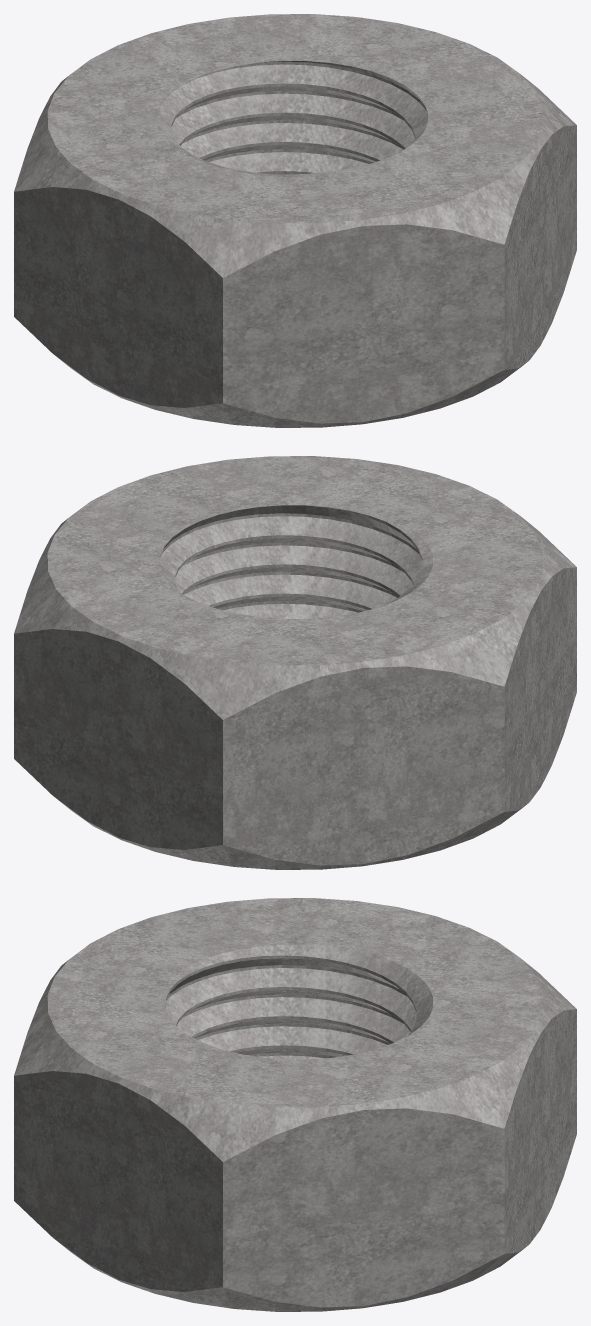
Rendered from Nylock nut.fbx.
3 views of the same model, one above another, from view 1: azimuth 30°, elevation 25°; view 2: azimuth 150°, elevation 25°; view 3: azimuth 270°, elevation 25° (orthographic).
Parts seen in each view (by area): view 1: Nut.001; view 2: Nut.001; view 3: Nut.001.
Boxes of the visible parts, x1,y1,x2,y2 form: Nut.001: [14, 14, 576, 427]; Nut.001: [14, 456, 576, 869]; Nut.001: [14, 898, 576, 1311].
Bounding box in the file's own units: 75.03 × 29.88 × 74.58.
Materials: 1 (1 with a texture image).
